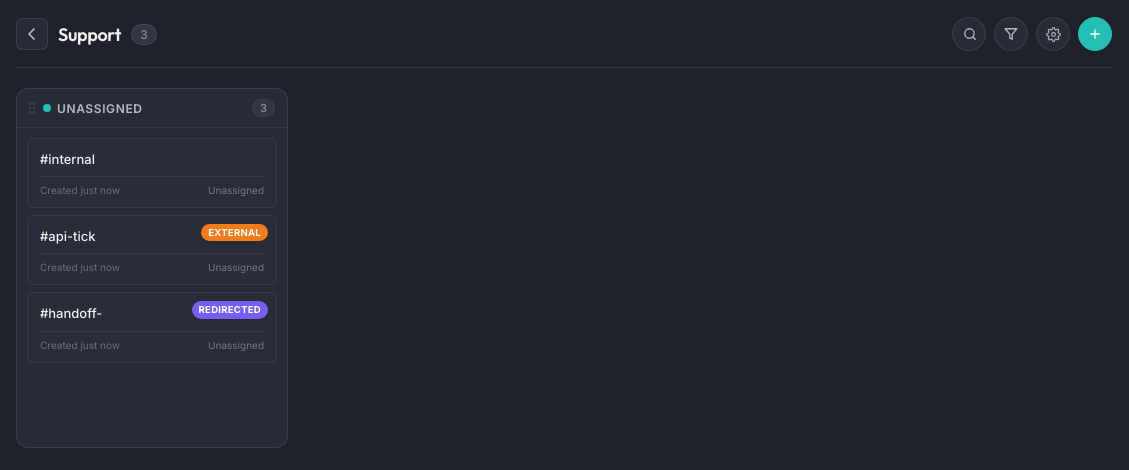
WorkflowRecords — Source filter (Internal / External / Redirected) › selecting "External" shows only api-origin tickets
expect the number of elements with class "kb-card" is 3: met, box [27, 138, 277, 208]; [27, 215, 277, 285]; [27, 292, 277, 363]
What coordinates should you click on to do the following:
click the button titled "Filters"
I would click on:
 (1011, 34)
Its box is [994, 17, 1028, 51].
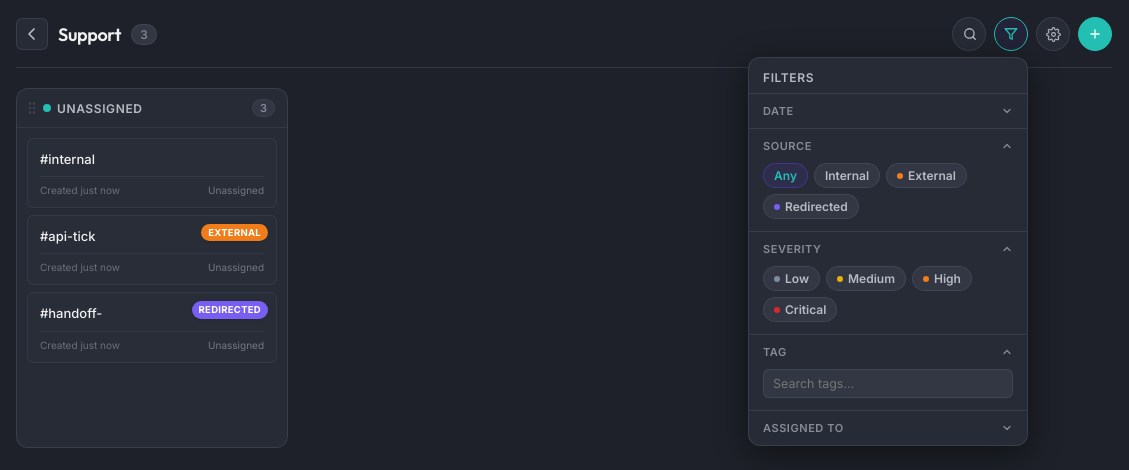
What coordinates should you click on to do the following:
click the button "External"
I would click on:
 (926, 176)
Its box is [886, 163, 967, 188].
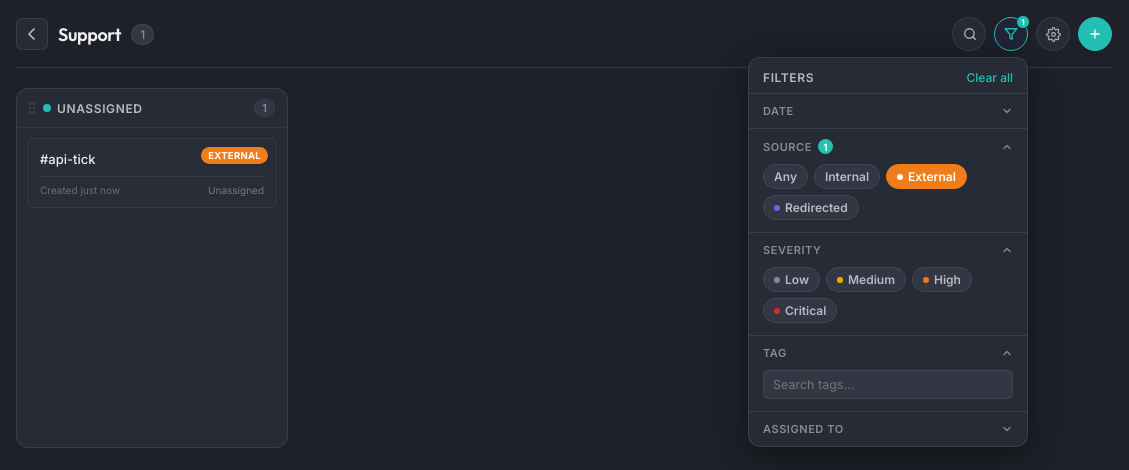
expect the text "api-tick" is shown: met, box [40, 151, 96, 167]
expect the number of elements with class "kb-card" is 1: met, box [27, 138, 277, 208]
